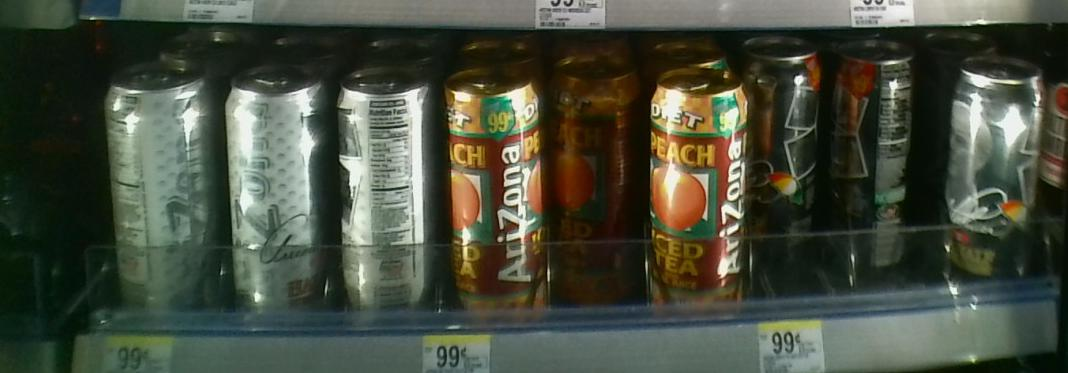bottle: (95, 47, 222, 309), (224, 59, 341, 311), (642, 62, 756, 300), (935, 53, 1055, 277), (337, 64, 441, 305), (442, 61, 545, 303), (545, 54, 644, 300), (822, 41, 908, 260), (747, 33, 823, 256)
